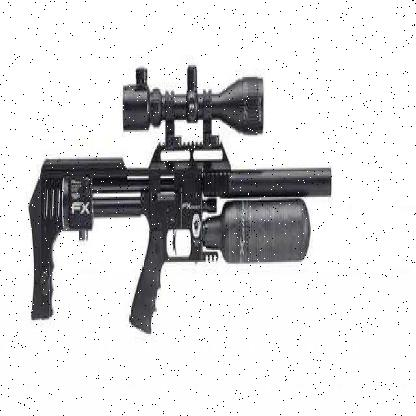rifle: (19, 31, 368, 370)
